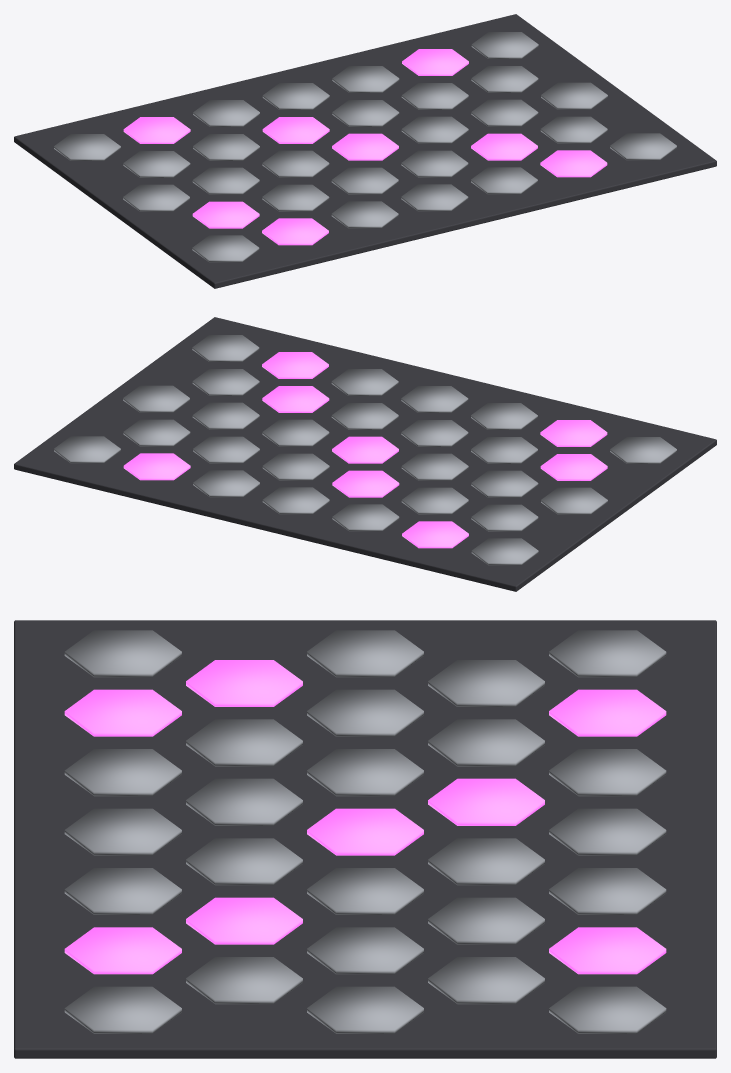
The model's file is rug_hex_pad.glb.
The picture shows the model from 3 angles, top to bottom: view 1: azimuth 30°, elevation 25°; view 2: azimuth 150°, elevation 25°; view 3: azimuth 270°, elevation 25°; orthographic projection. The views are drawn at different scales.
Visible parts, largest first — view 1: GD_rug_hex_pad__m0, GD_rug_hex_pad__m1, GD_rug_hex_pad__m2; view 2: GD_rug_hex_pad__m0, GD_rug_hex_pad__m1, GD_rug_hex_pad__m2; view 3: GD_rug_hex_pad__m0, GD_rug_hex_pad__m1, GD_rug_hex_pad__m2.
Boxes of the visible parts, box(x1,y1,x2,y2) form: GD_rug_hex_pad__m0: box(14, 14, 716, 288); GD_rug_hex_pad__m1: box(54, 32, 676, 262); GD_rug_hex_pad__m2: box(123, 49, 607, 245); GD_rug_hex_pad__m0: box(14, 317, 716, 591); GD_rug_hex_pad__m1: box(54, 335, 676, 565); GD_rug_hex_pad__m2: box(123, 352, 607, 548); GD_rug_hex_pad__m0: box(14, 620, 716, 1058); GD_rug_hex_pad__m1: box(64, 630, 666, 1033); GD_rug_hex_pad__m2: box(64, 660, 666, 974).
Size of the model in its own units: 2.6 by 0.042 by 1.8.
